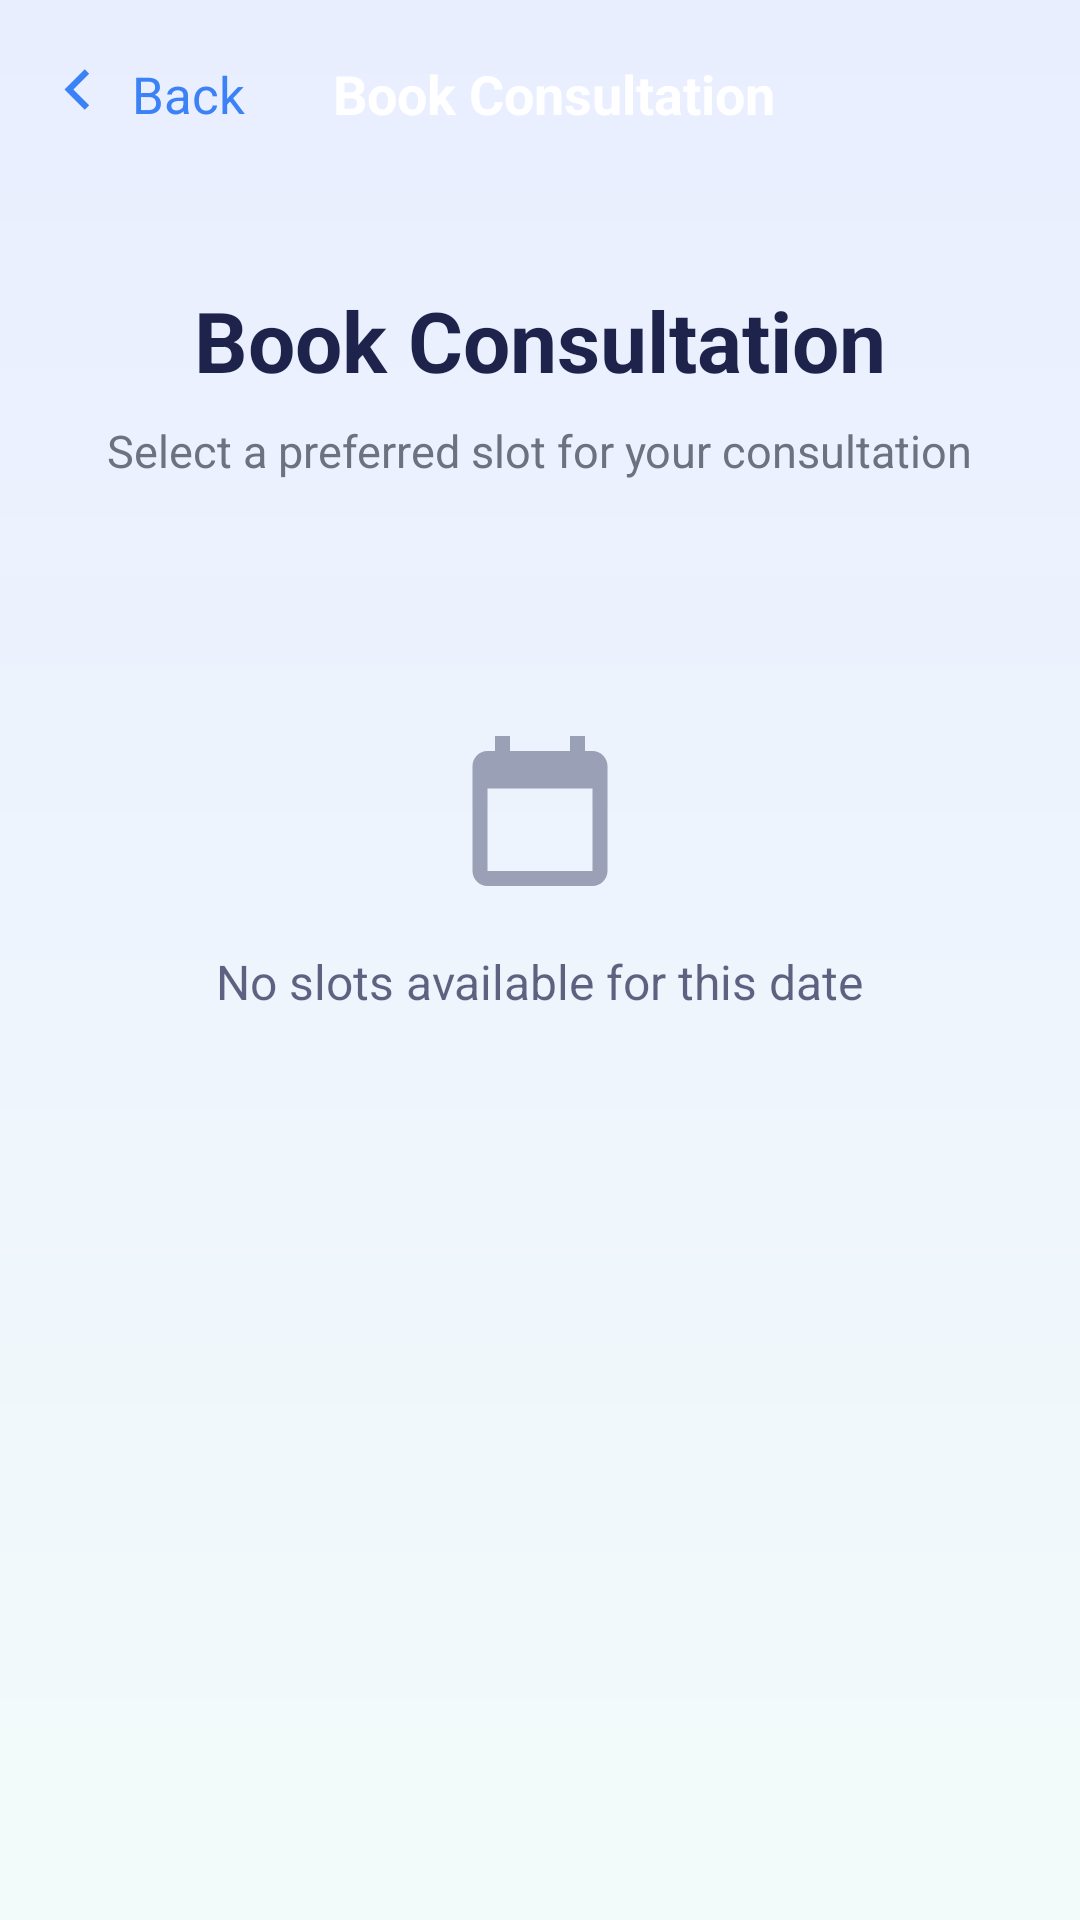

Screen size 1080w x 1920h. Icon name, then its center in pixels as (x=x, y=y):
calendar: (x=540, y=811)
